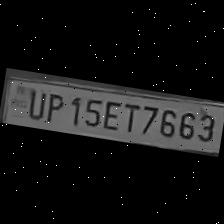1: (62, 92, 84, 126)
3: (193, 108, 217, 143)
5: (78, 92, 104, 128)
6: (154, 104, 178, 138), (174, 106, 198, 140)
7: (136, 102, 158, 138)
E: (99, 96, 122, 132)
P: (40, 88, 66, 125)
T: (118, 99, 140, 135)
U: (22, 85, 47, 121)
